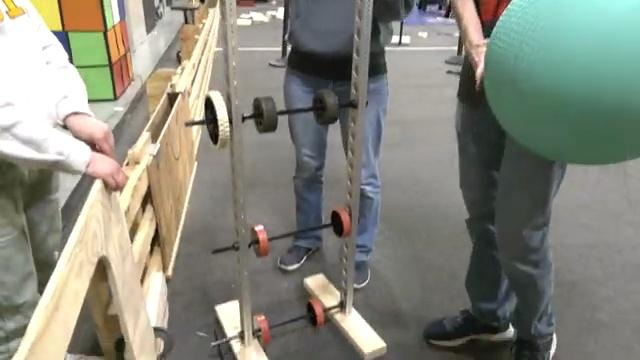ALGAE: (481, 0, 639, 165)
